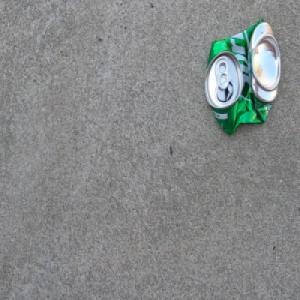SodaCan: (203, 16, 281, 136)
